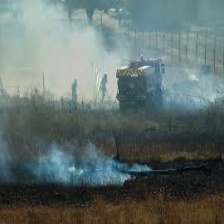smoke: (20, 33, 116, 104), (18, 154, 140, 182), (189, 72, 224, 107)
